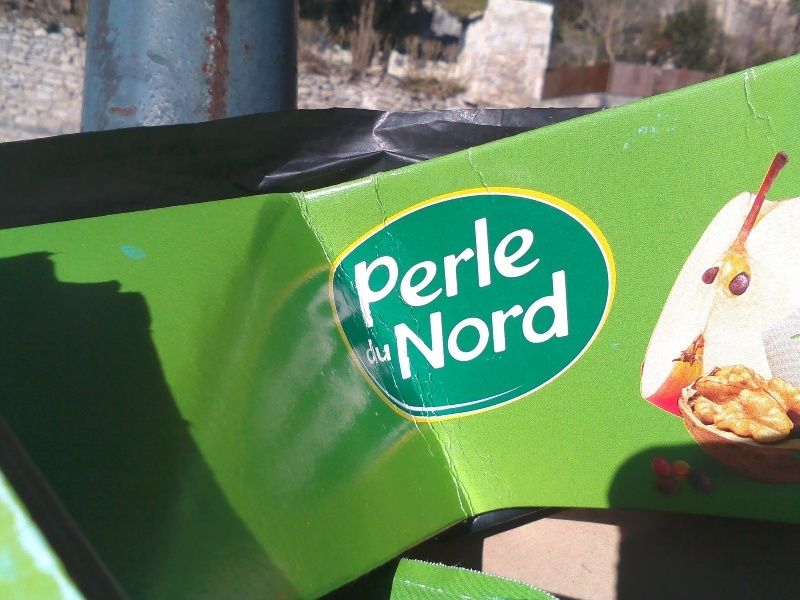text: (353, 202, 368, 333), (369, 202, 384, 333), (385, 202, 400, 333), (401, 202, 416, 333), (417, 202, 432, 333), (433, 202, 448, 333), (449, 202, 464, 333), (465, 202, 480, 333), (481, 202, 496, 333), (497, 202, 512, 333), (513, 202, 528, 333), (529, 202, 544, 333), (401, 267, 416, 381), (417, 267, 432, 381), (433, 267, 448, 381), (449, 267, 464, 381), (465, 267, 480, 381), (481, 267, 496, 381), (497, 267, 512, 381), (513, 267, 528, 381), (529, 267, 544, 381), (545, 267, 560, 381), (561, 267, 574, 381), (391, 267, 400, 381), (545, 202, 549, 333), (369, 334, 384, 366), (385, 334, 397, 366), (350, 202, 352, 333), (363, 334, 368, 366)
